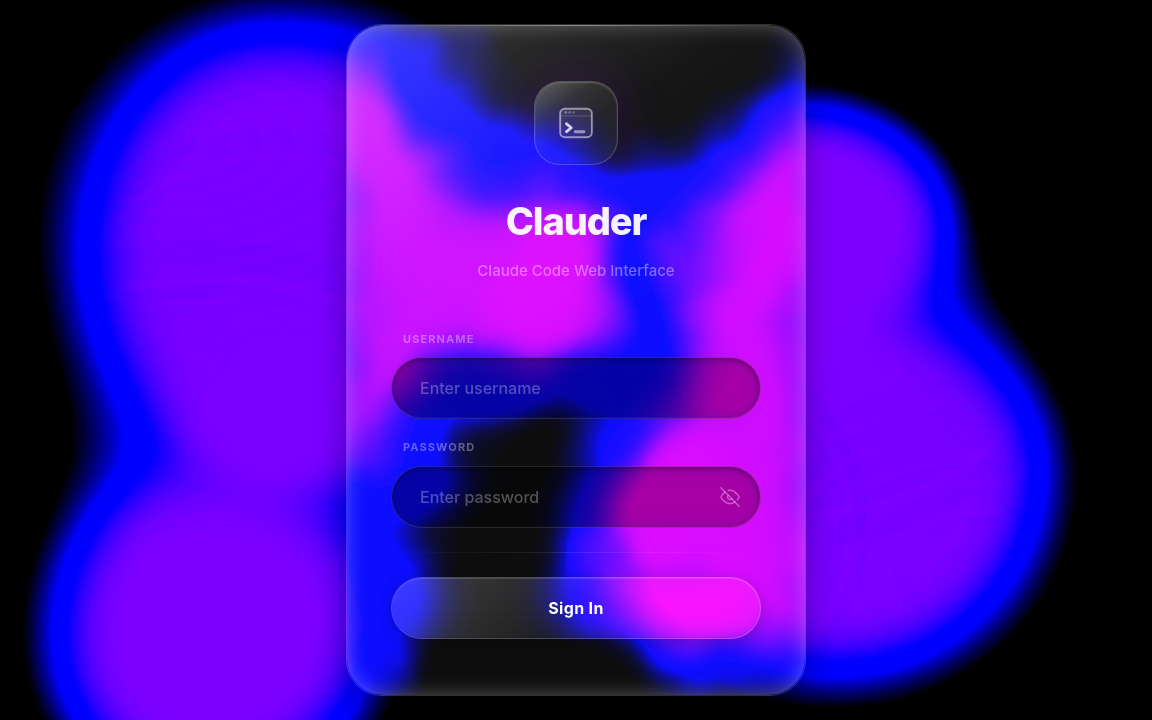
it: Login › shows TOTP input after successful password when requires_totp
The image size is (1152, 720).
Note: Fill in credentials
Type "testuser" into the field with placeholder "Enter username".
click(576, 388); type("testuser")  # box [392,358,760,418]
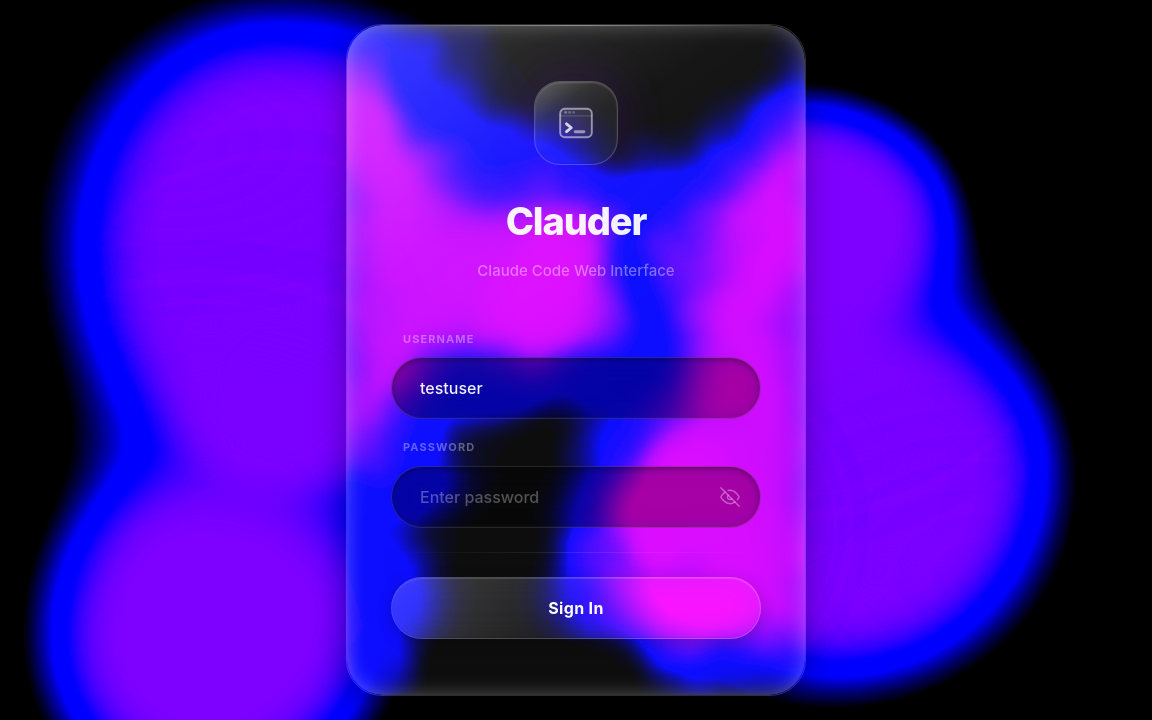
Type "password123" into the password field with placeholder "Enter password".
click(576, 497); type("password123")  # box [392,467,760,527]
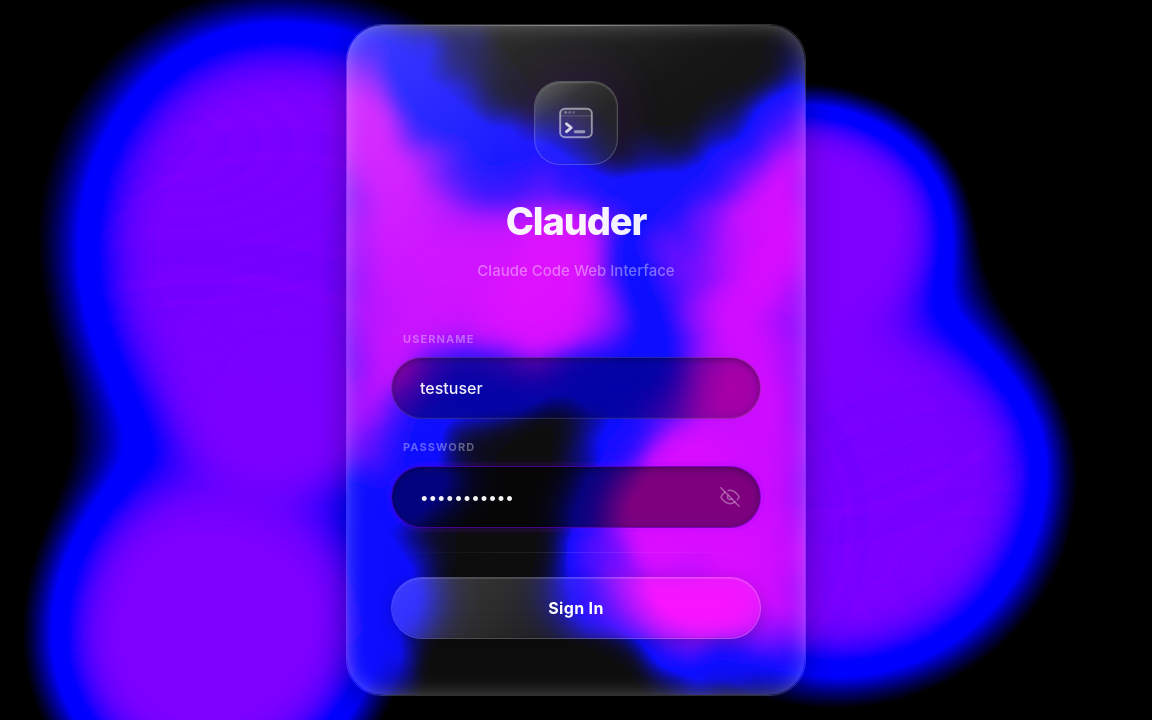
Click the button "Sign In".
click(576, 608)  # box [391,577,761,639]
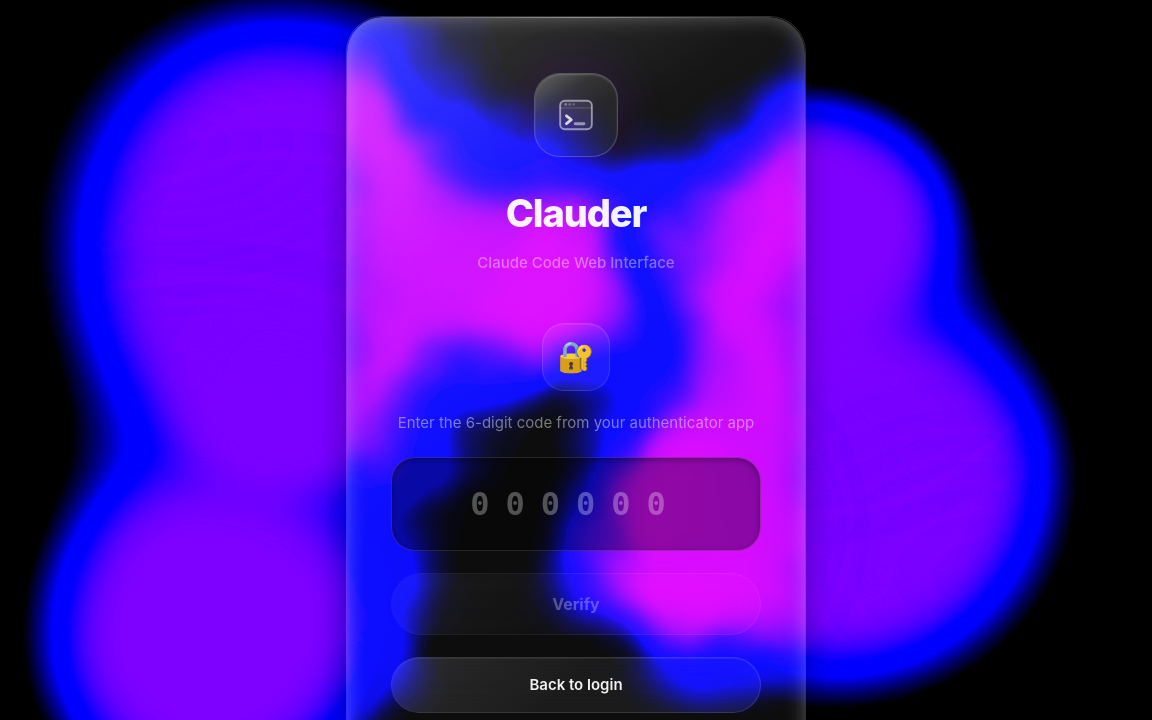
Check: the field with placeholder "000000" is shown, box [392,458,760,550]
Check: the text "Enter the 6-digit code from your authenticator app" is shown, box [391,410,761,434]
Check: the button "Verify" is shown, box [391,572,761,634]
